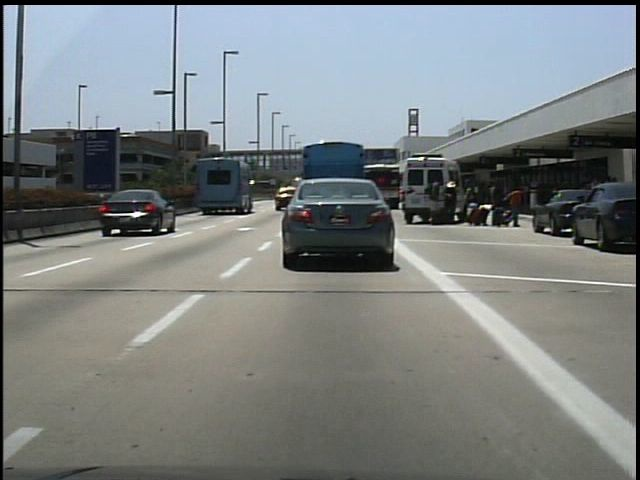person: (441, 175, 464, 226), (479, 178, 501, 227), (423, 173, 444, 224), (505, 181, 527, 229)
